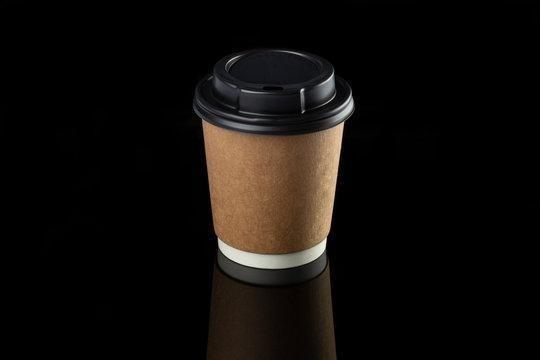cup-disposable: (191, 43, 356, 282)
